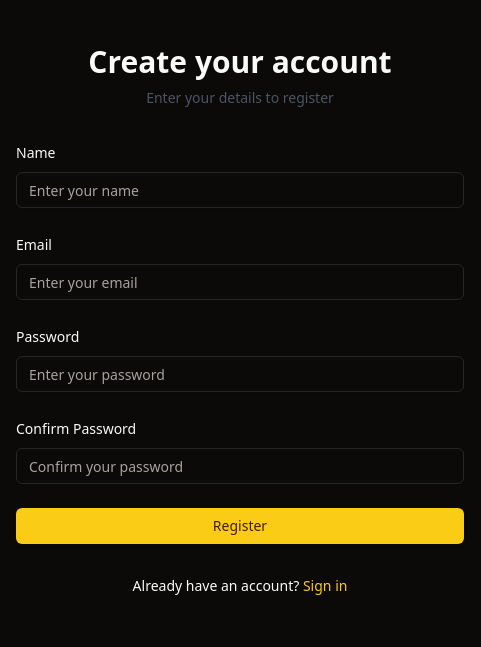
Test: RegisterPage Integration Tests › displays error message on registration failure
Type "John Doe" into the field labelled "Name" at (240, 190), box [16, 172, 464, 208]
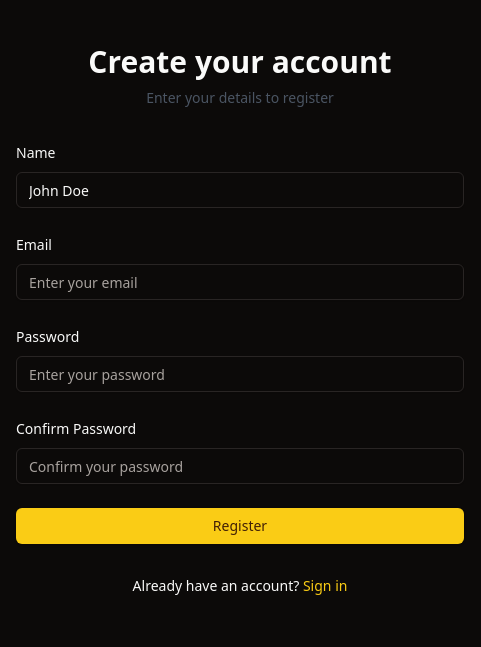
Type "john@example.com" into the field labelled "Email" at (240, 282), box [16, 264, 464, 300]
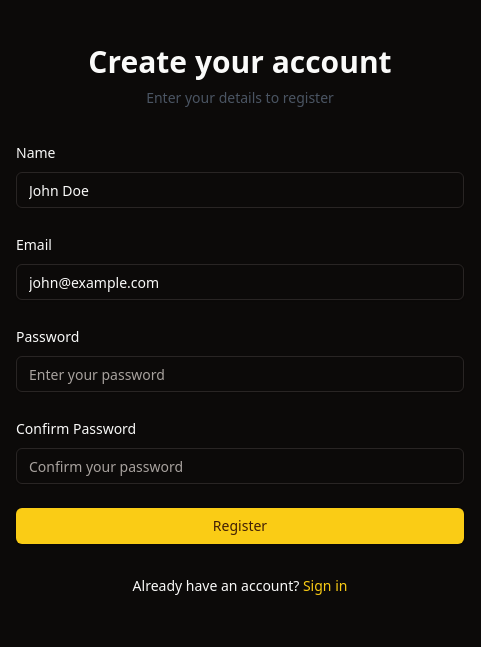
Type "password123" into the password field labelled "Password" at (240, 374), box [16, 356, 464, 392]
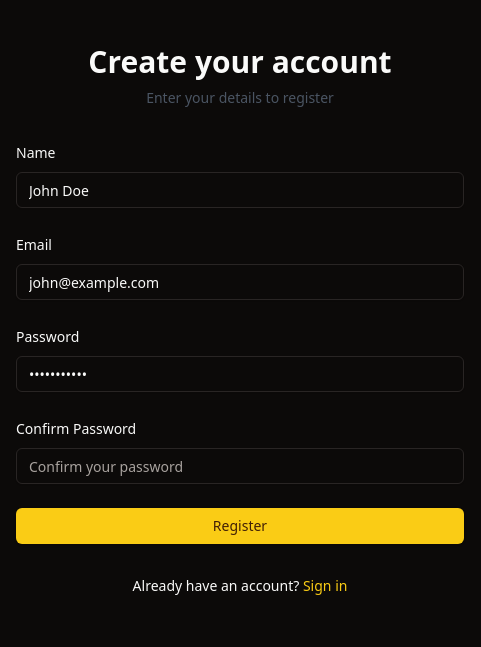
Type "password123" into the password field labelled "Confirm Password" at (240, 466), box [16, 448, 464, 484]
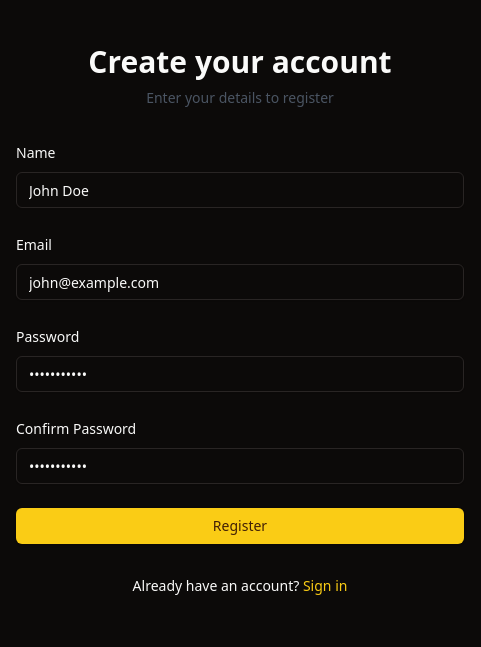
Click the button "Register" at (240, 526), box [16, 508, 464, 544]
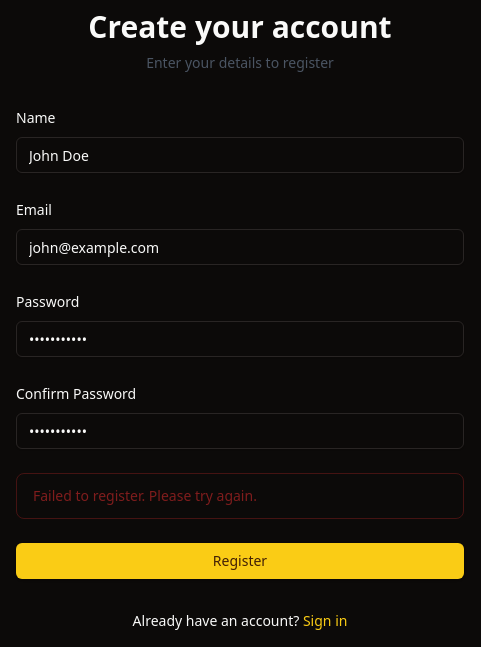
Check: the text "Failed to register. Please try again." is shown, box [33, 486, 257, 505]
